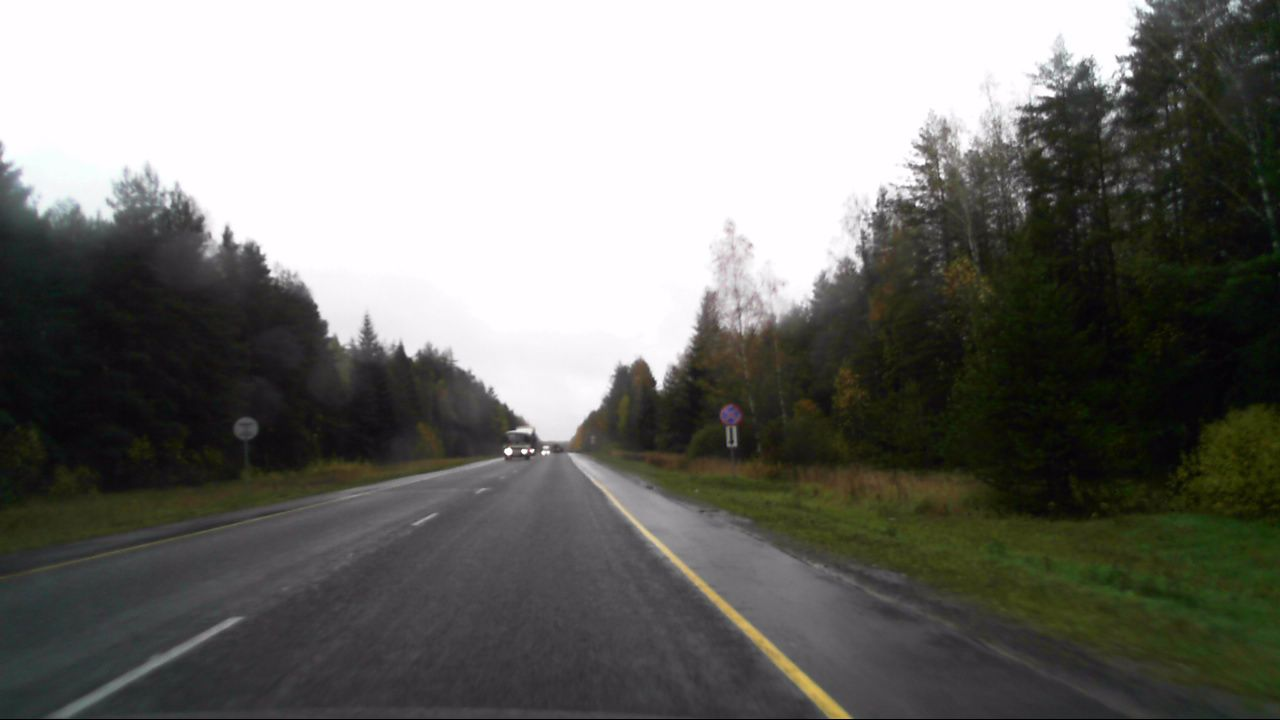No Parking: (718, 402, 740, 423)
